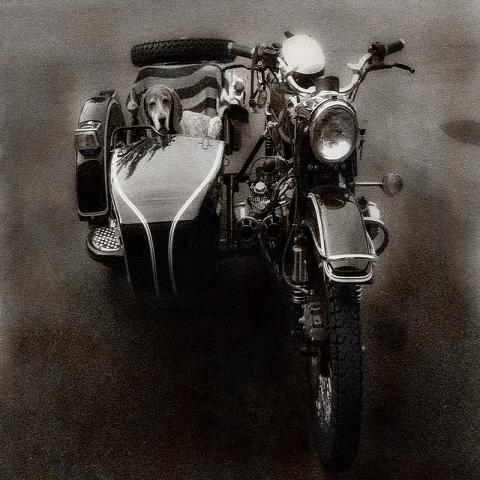motorcycle: (74, 30, 417, 444)
